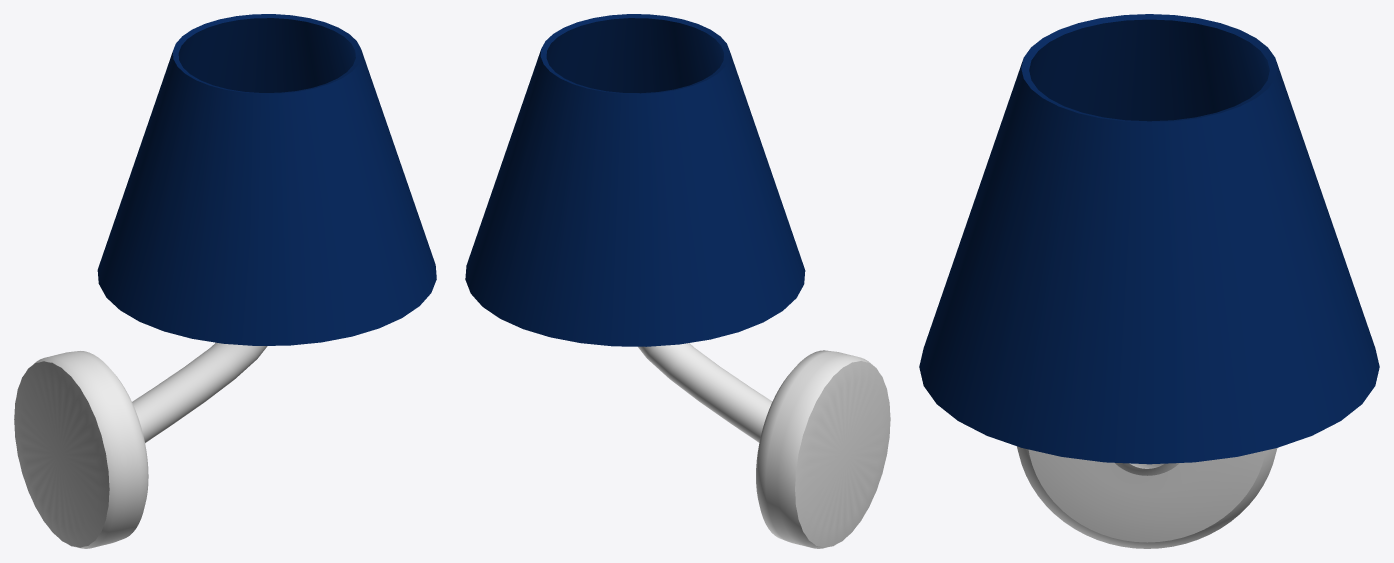
The model's file is Low Poly Wall Lamp.fbx.
The picture shows the model from 3 angles, left to right: view 1: azimuth 30°, elevation 25°; view 2: azimuth 150°, elevation 25°; view 3: azimuth 270°, elevation 25°; orthographic projection. The views are drawn at different scales.
Parts seen in each view (by area): view 1: Cylinder.001, Cylinder; view 2: Cylinder.001, Cylinder; view 3: Cylinder.001, Cylinder.
Boxes of the visible parts, bbox=[...] form: Cylinder.001: bbox=[97, 14, 436, 345]; Cylinder: bbox=[14, 342, 267, 548]; Cylinder.001: bbox=[465, 14, 805, 346]; Cylinder: bbox=[638, 343, 890, 548]; Cylinder.001: bbox=[919, 14, 1379, 464]; Cylinder: bbox=[1017, 446, 1277, 548].
Bounding box in the file's own units: 48.92 × 57.54 × 40.41.
